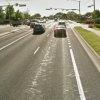Car: (50, 21, 71, 43)
